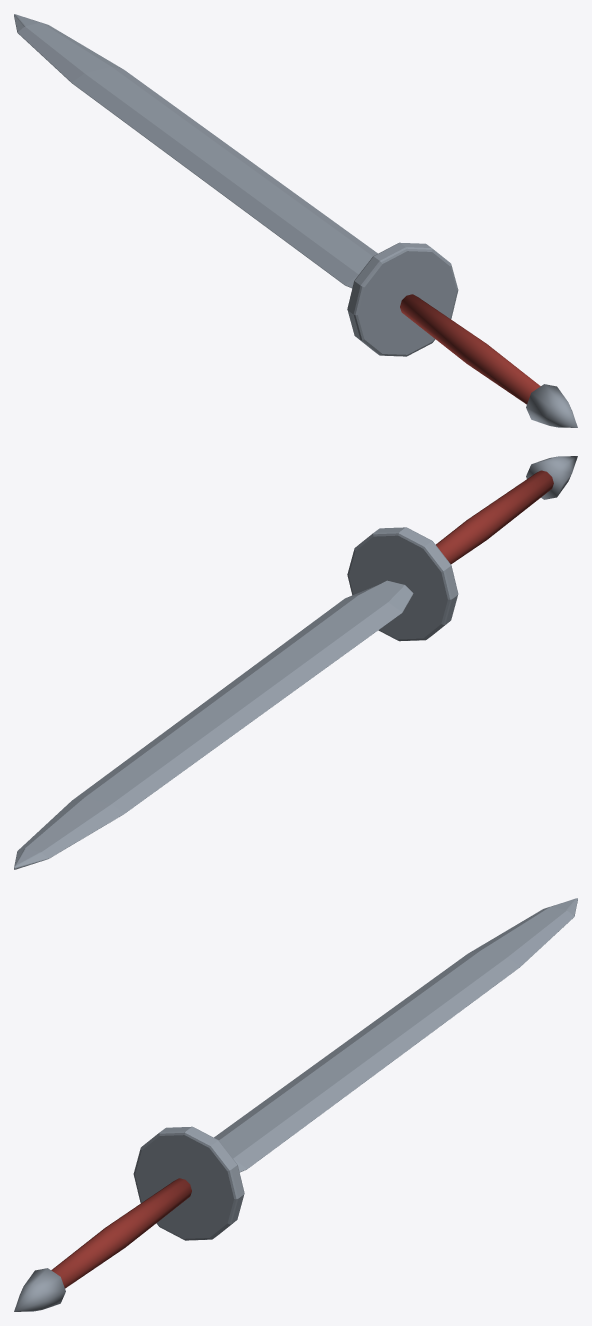
File: greatsword_05_fuller_iron.glb
3 renders of one model, top to bottom at view 1: azimuth 30°, elevation 25°; view 2: azimuth 150°, elevation 25°; view 3: azimuth 330°, elevation 25°, orthographic.
Visible parts, largest first — view 1: 05_fuller_iron_Blade, 05_fuller_iron_Guard, 05_fuller_iron_Grip, 05_fuller_iron_Pommel; view 2: 05_fuller_iron_Blade, 05_fuller_iron_Guard, 05_fuller_iron_Grip, 05_fuller_iron_Pommel; view 3: 05_fuller_iron_Blade, 05_fuller_iron_Guard, 05_fuller_iron_Grip, 05_fuller_iron_Pommel.
Part boxes in pixels (bbox=[...]): 05_fuller_iron_Blade: bbox=[14, 14, 377, 288]; 05_fuller_iron_Guard: bbox=[347, 242, 458, 356]; 05_fuller_iron_Grip: bbox=[400, 294, 540, 404]; 05_fuller_iron_Pommel: bbox=[526, 384, 577, 427]; 05_fuller_iron_Blade: bbox=[14, 580, 413, 869]; 05_fuller_iron_Guard: bbox=[347, 527, 458, 641]; 05_fuller_iron_Grip: bbox=[436, 470, 553, 564]; 05_fuller_iron_Pommel: bbox=[526, 456, 577, 499]; 05_fuller_iron_Blade: bbox=[214, 898, 577, 1172]; 05_fuller_iron_Guard: bbox=[133, 1126, 244, 1240]; 05_fuller_iron_Grip: bbox=[51, 1178, 191, 1288]; 05_fuller_iron_Pommel: bbox=[14, 1268, 65, 1311].
Size of the model in its own units: 0.1606 by 0.1606 by 1.5.
